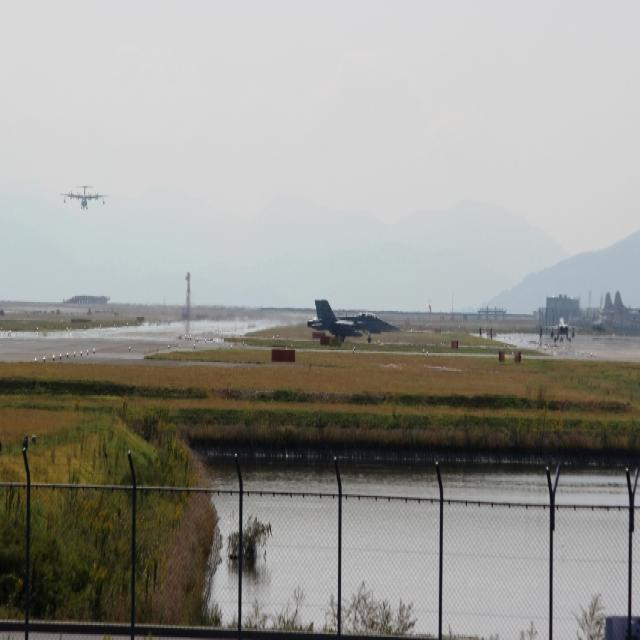MIL_Plane: (307, 299, 400, 344), (535, 309, 587, 343), (47, 185, 97, 210)
